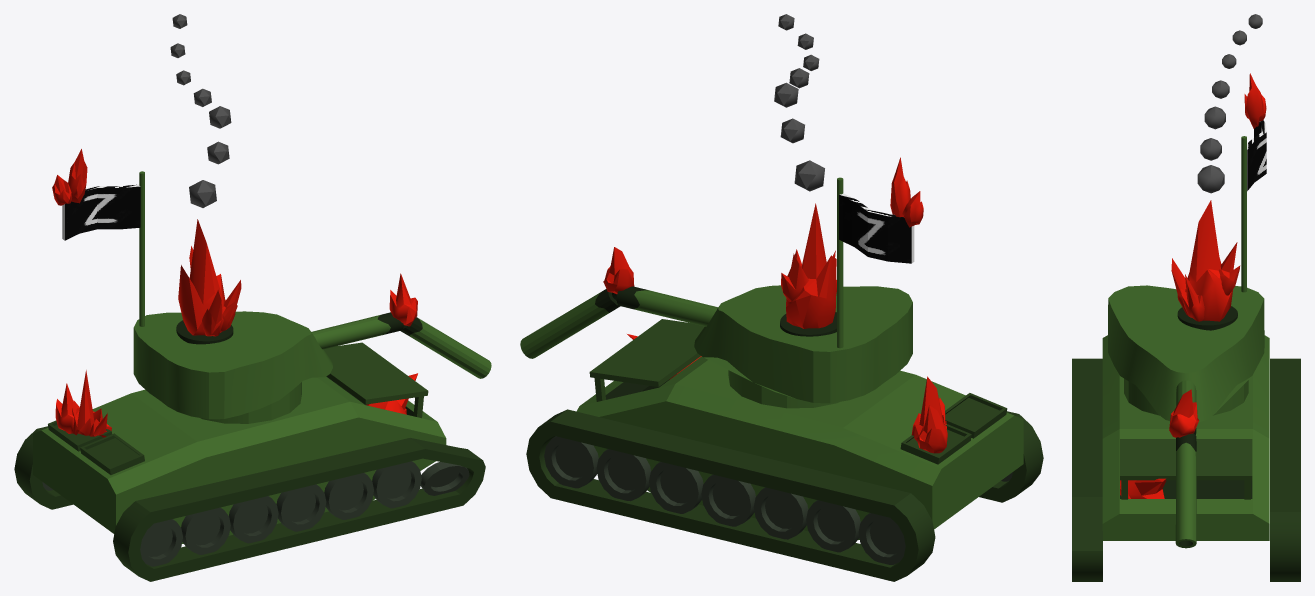
Rendered from tank.fbx.
3 views of the same model, side by side, from view 1: azimuth 30°, elevation 25°; view 2: azimuth 150°, elevation 25°; view 3: azimuth 270°, elevation 25° (orthographic). The views are drawn at different scales.
Parts seen in each view (by area): view 1: Cube; view 2: Cube; view 3: Cube.
Part boxes in pixels (left/top/right/bottom): Cube: left=14, top=14, right=491, bottom=581; Cube: left=520, top=14, right=1043, bottom=581; Cube: left=1072, top=14, right=1300, bottom=581.
Bounding box in the file's own units: 1160 × 1250 × 547.
10 materials, 1 textured.
